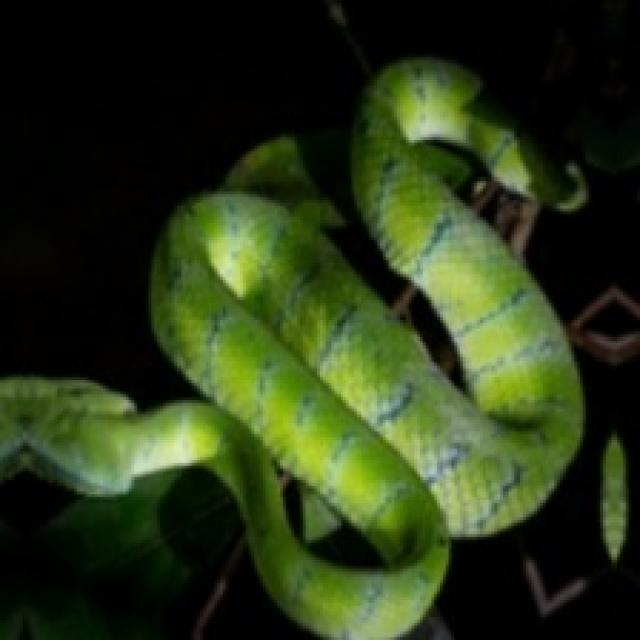north ph temple pitviper: (0, 57, 583, 637)
